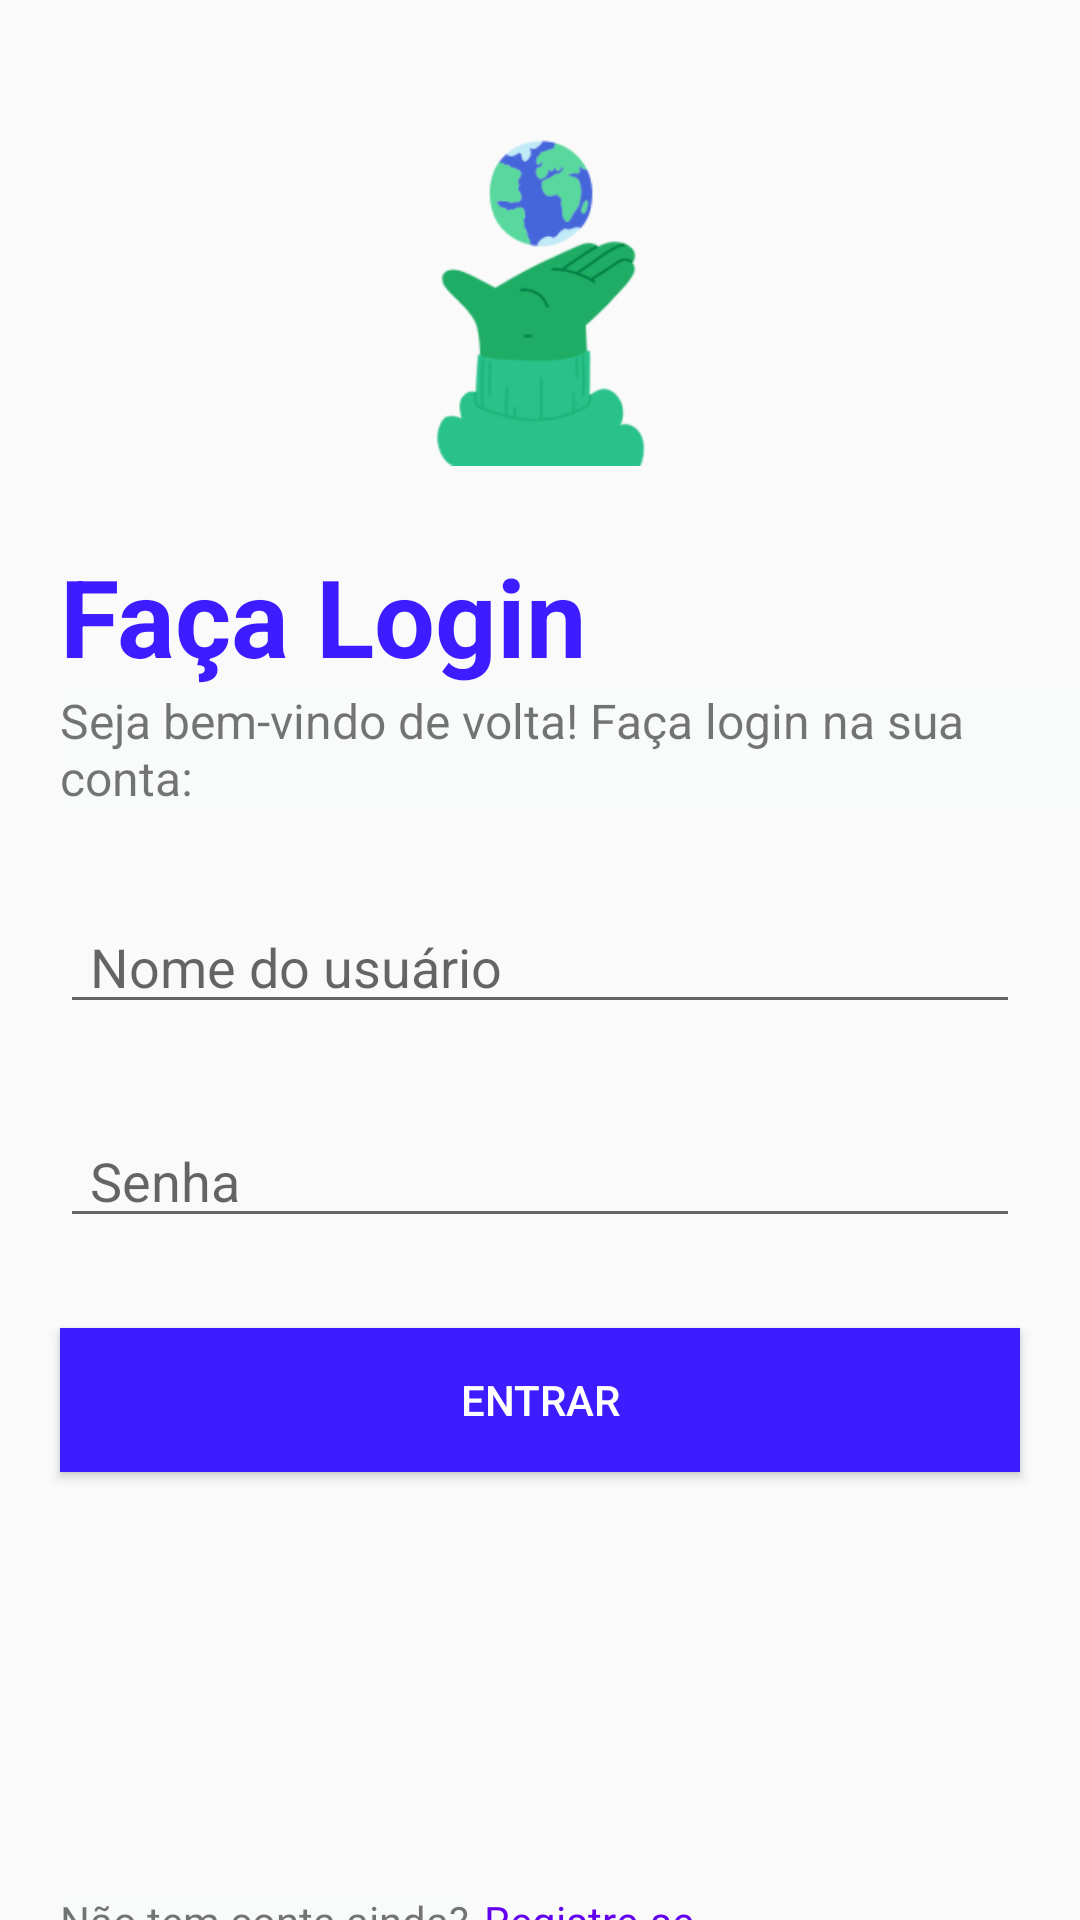

Point at icon controls on the screen. Image size 1080px×1920px, points as (x,y).
handsshow: (540,303)
